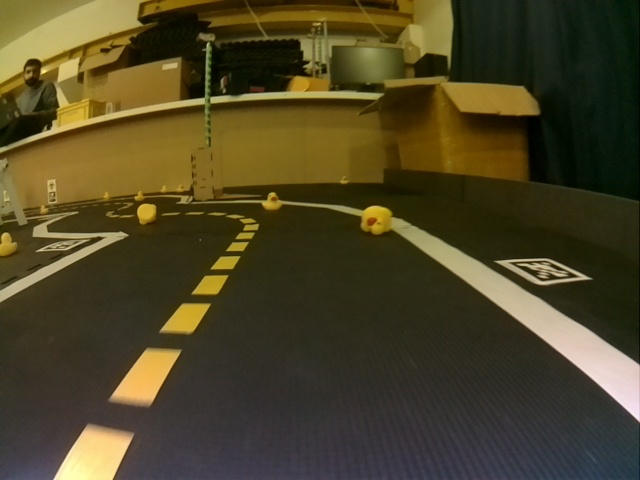Duckie: (360, 207, 391, 234), (0, 233, 17, 255), (138, 203, 157, 222), (262, 193, 283, 210), (134, 191, 144, 201), (40, 205, 49, 214), (340, 177, 350, 185)
QR code: (497, 258, 593, 285), (38, 239, 88, 252)
